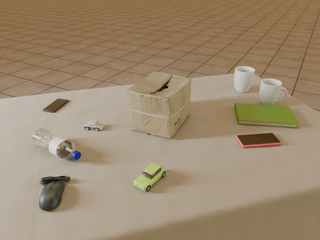book: (235, 103, 299, 128)
bottle: (31, 128, 81, 160)
box: (128, 72, 191, 138)
cup: (259, 79, 287, 105), (234, 66, 255, 93)
mouse: (38, 176, 70, 211)
phone: (236, 133, 281, 148), (42, 99, 69, 112)
toy_car: (134, 163, 166, 192), (83, 120, 104, 131)
